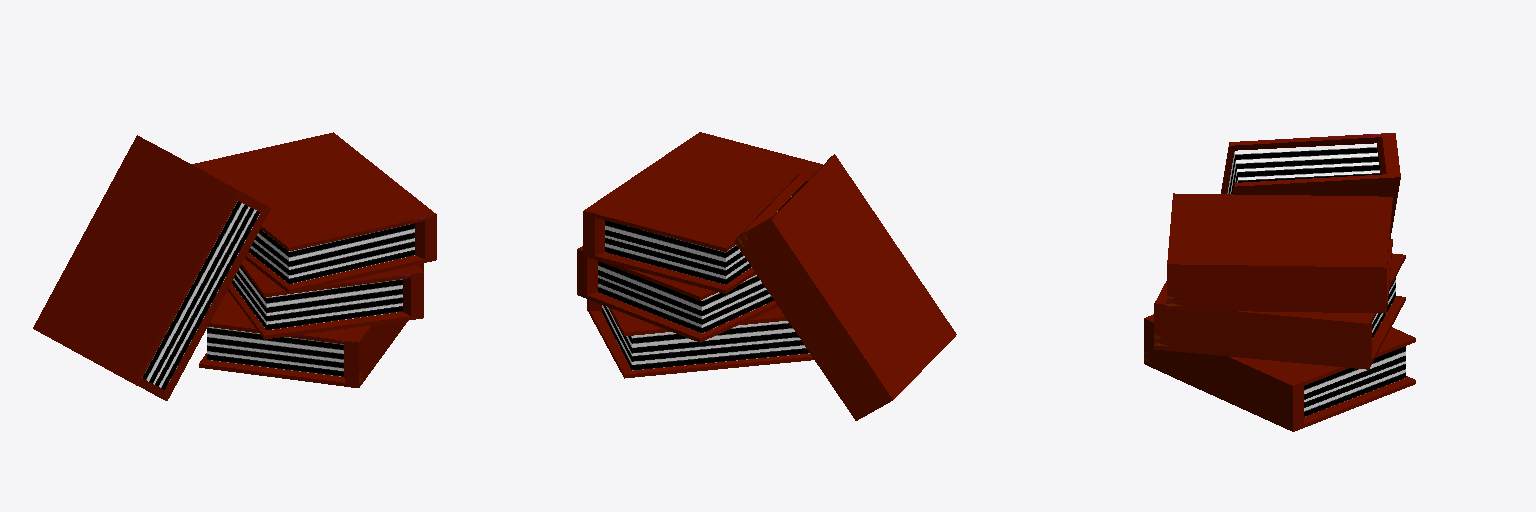
The picture shows the model from 3 angles: view 1: azimuth 30°, elevation 25°; view 2: azimuth 150°, elevation 25°; view 3: azimuth 270°, elevation 25°; orthographic projection.
Visible parts, largest first — view 1: Monton.061; view 2: Monton.061; view 3: Monton.061.
Boxes of the visible parts, <box> form: Monton.061: <box>33,132,436,400</box>; Monton.061: <box>577,132,956,420</box>; Monton.061: <box>1144,133,1415,431</box>.
Bounding box in the file's own units: 3.35 × 1.72 × 2.27.
1 materials, 1 textured.